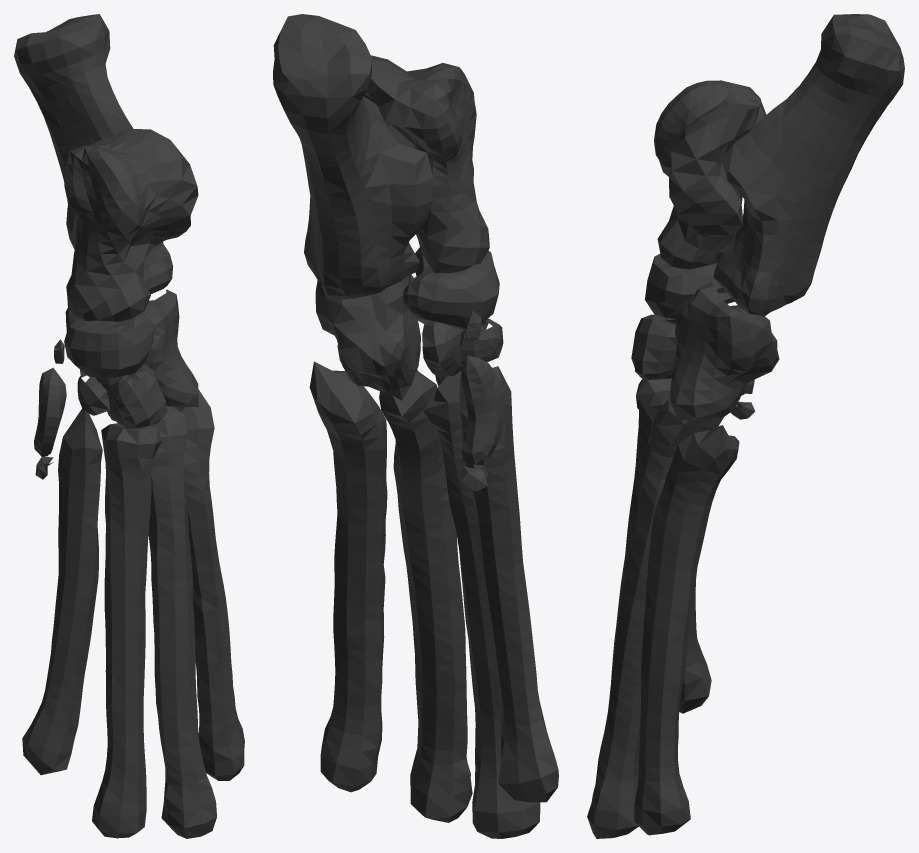
The model's file is Talus.glb.
3 views of the same model, side by side, from view 1: azimuth 30°, elevation 25°; view 2: azimuth 150°, elevation 25°; view 3: azimuth 270°, elevation 25° (orthographic). The views are drawn at different scales.
Parts seen in each view (by area): view 1: Talus; view 2: Talus; view 3: Talus.
Boxes of the visible parts, <box> form: Talus: <box>14,14,244,838</box>; Talus: <box>273,14,558,838</box>; Talus: <box>587,14,904,838</box>.
Size of the model in its own units: 2.28 by 7.77 by 2.77.
1 material, 1 textured.
